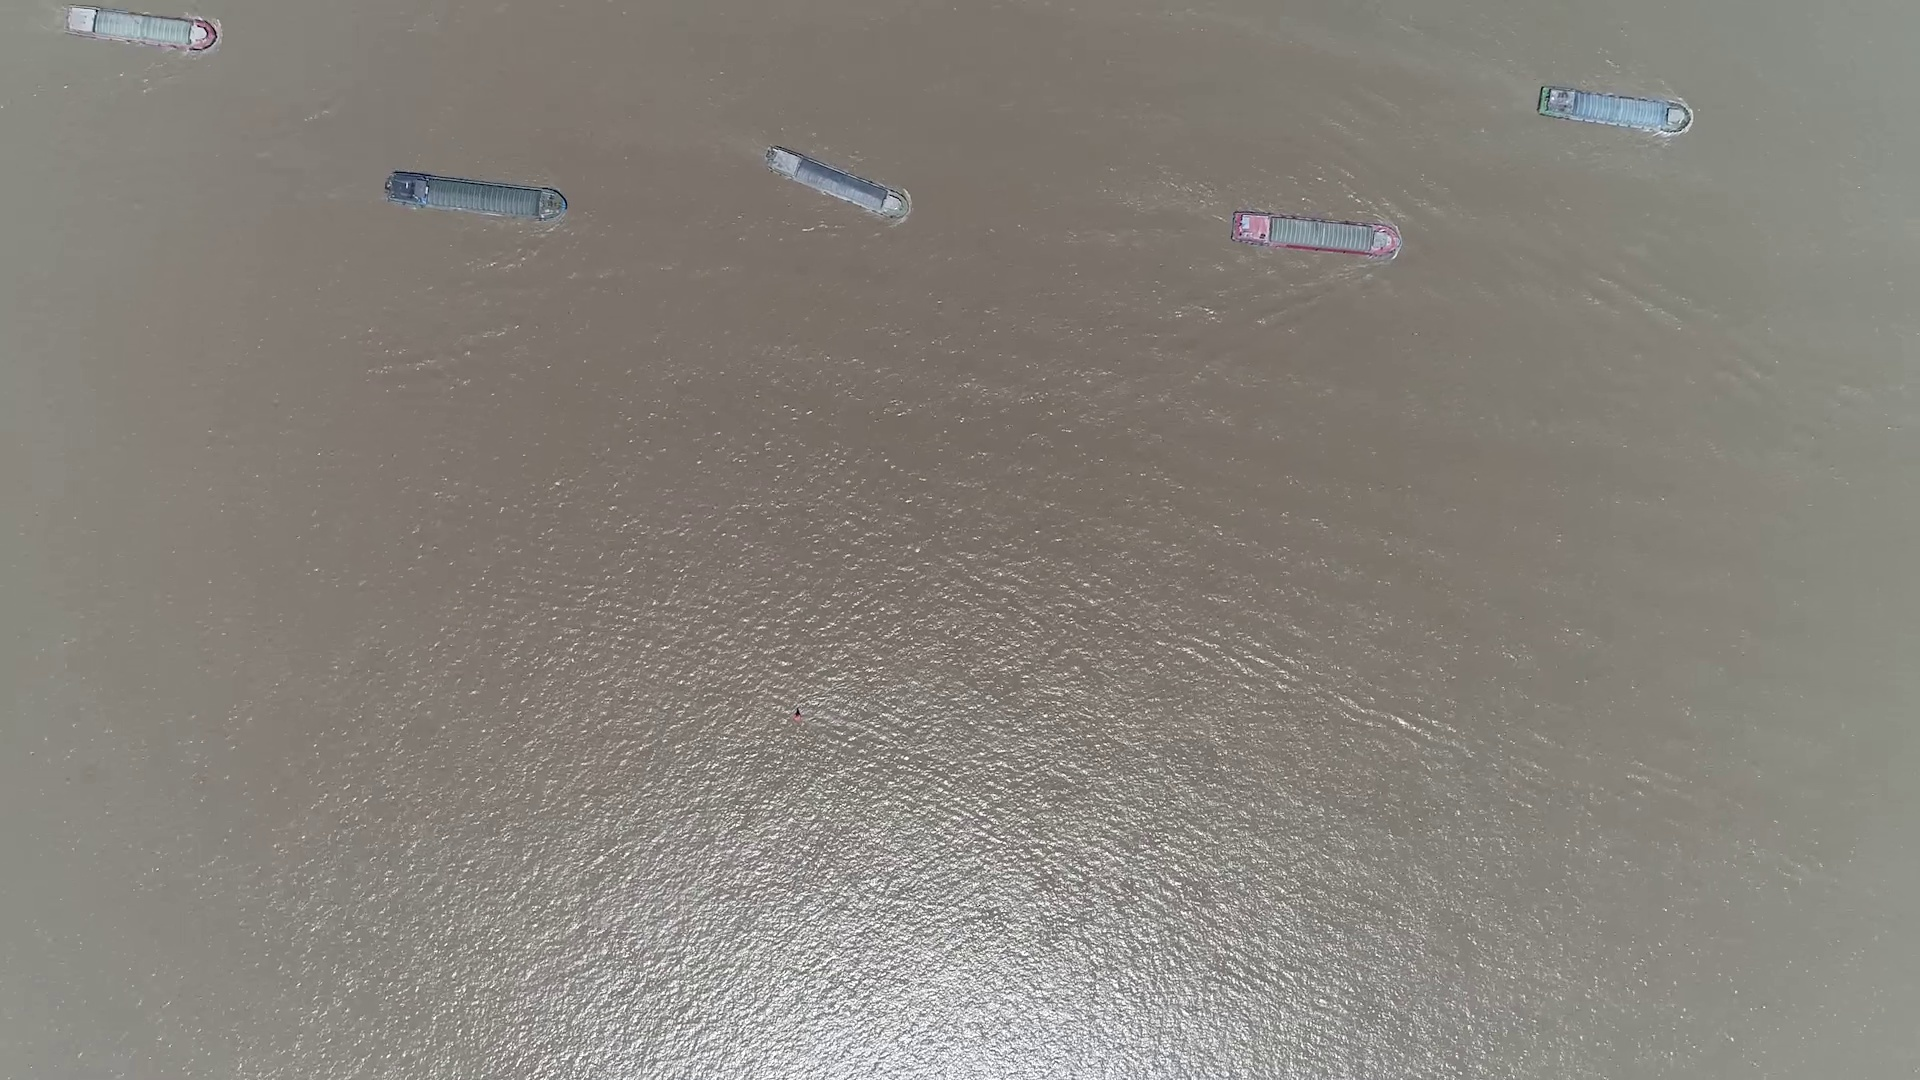ship: (764, 146, 909, 219), (384, 171, 567, 222), (1230, 214, 1400, 257), (63, 7, 219, 50), (1538, 88, 1687, 133)
